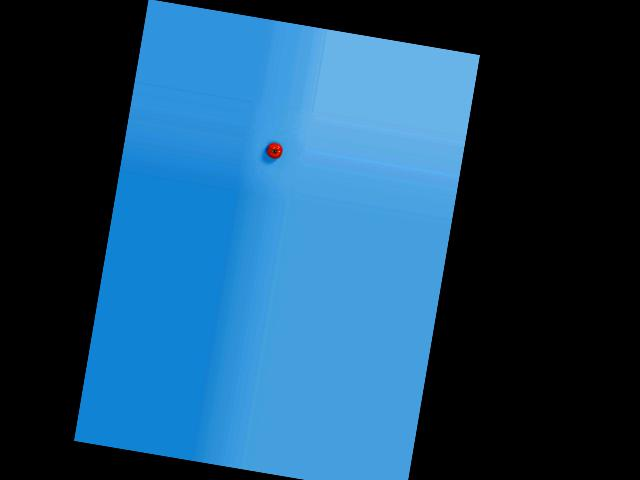tomato: (265, 142, 283, 160)
